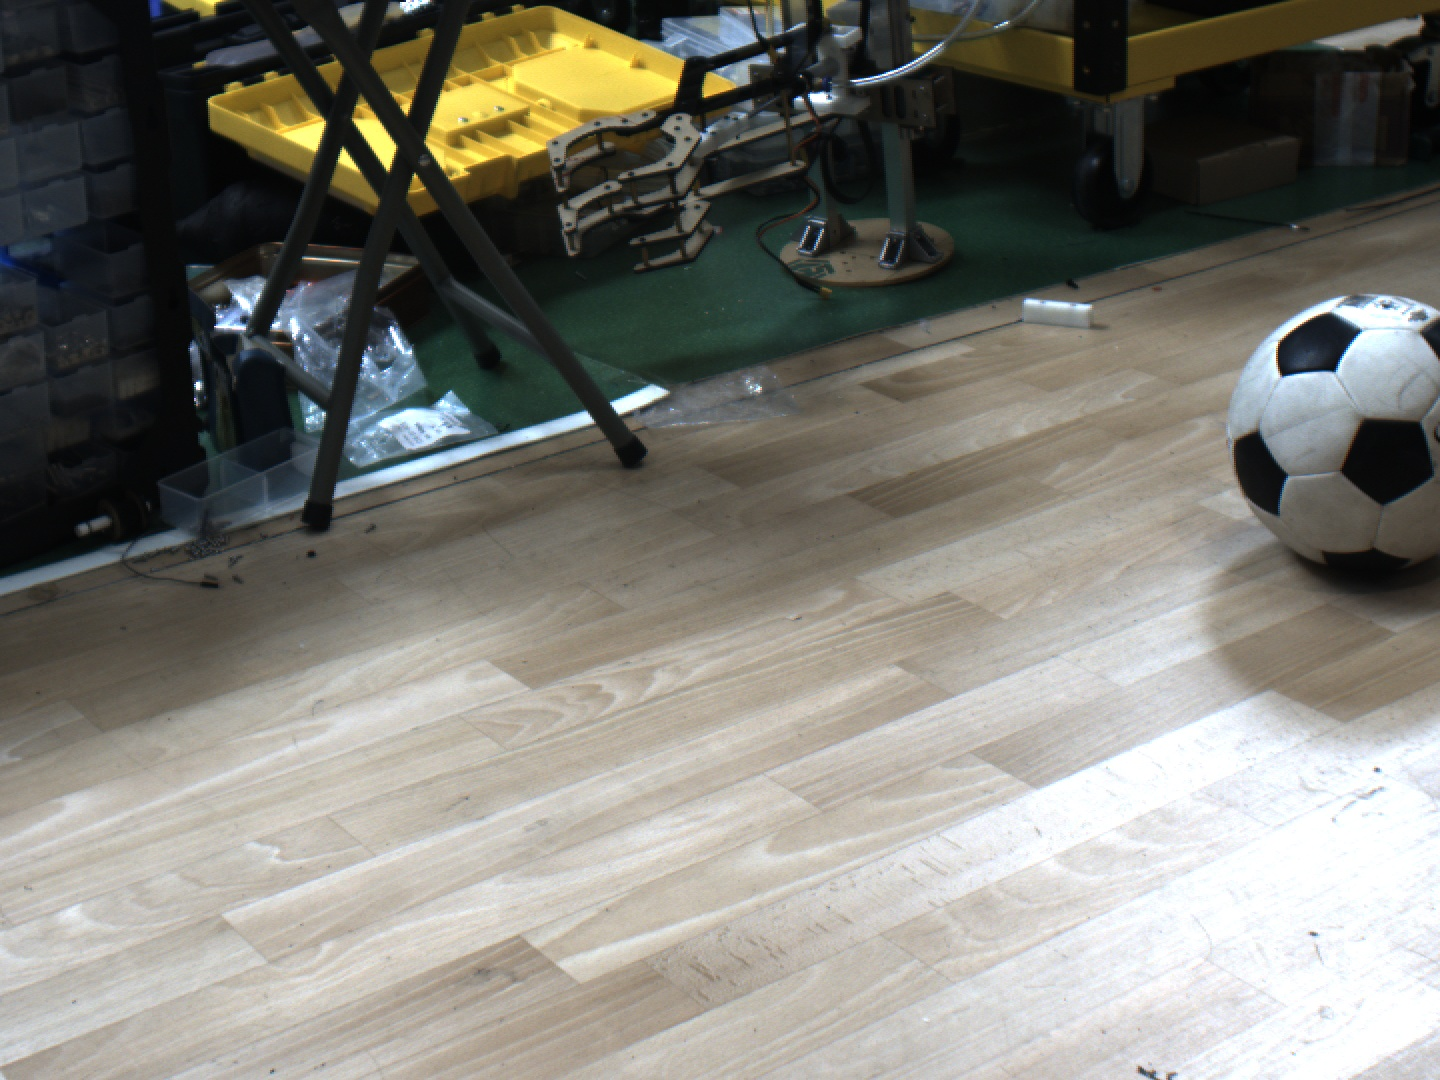ball: (1188, 272, 1440, 630)
